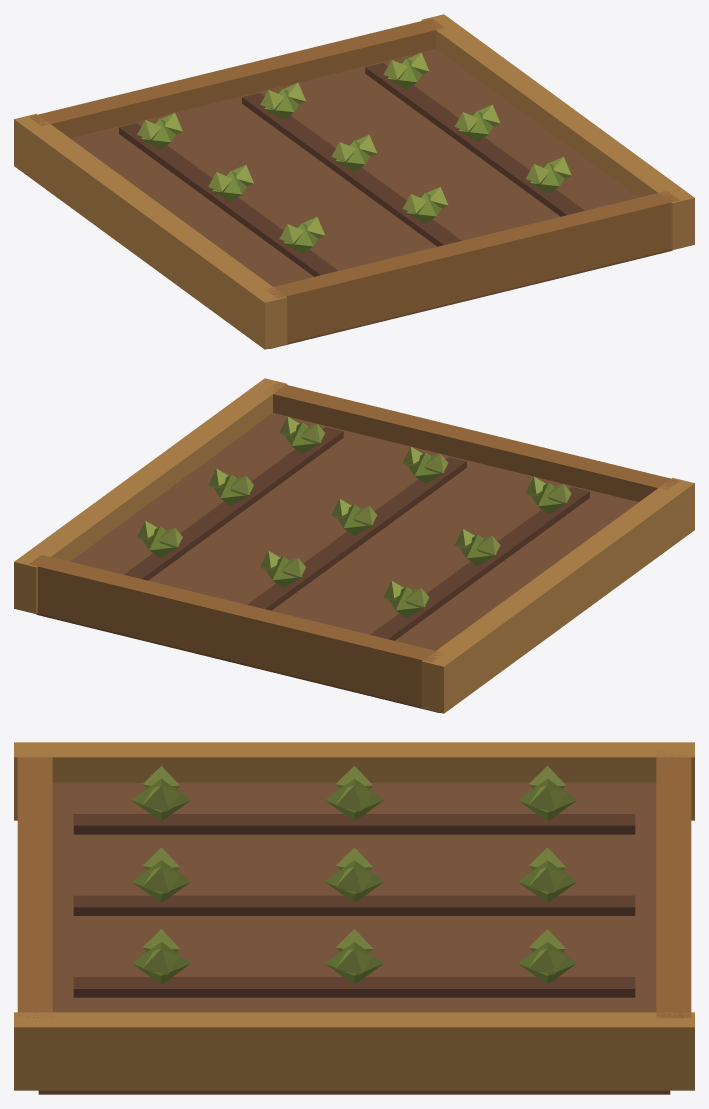
File: farm-seedling.gltf
The picture shows the model from 3 angles, top to bottom: view 1: azimuth 30°, elevation 25°; view 2: azimuth 150°, elevation 25°; view 3: azimuth 270°, elevation 25°; orthographic projection. The views are drawn at different scales.
Visible parts, largest first — view 1: farm-seedling; view 2: farm-seedling; view 3: farm-seedling.
Part boxes in pixels (x1=…): farm-seedling: x1=14, y1=14, x2=694, y2=349; farm-seedling: x1=14, y1=378, x2=694, y2=713; farm-seedling: x1=14, y1=742, x2=694, y2=1094.
Bounding box in the file's own units: 1.92 × 0.3269 × 1.94.
